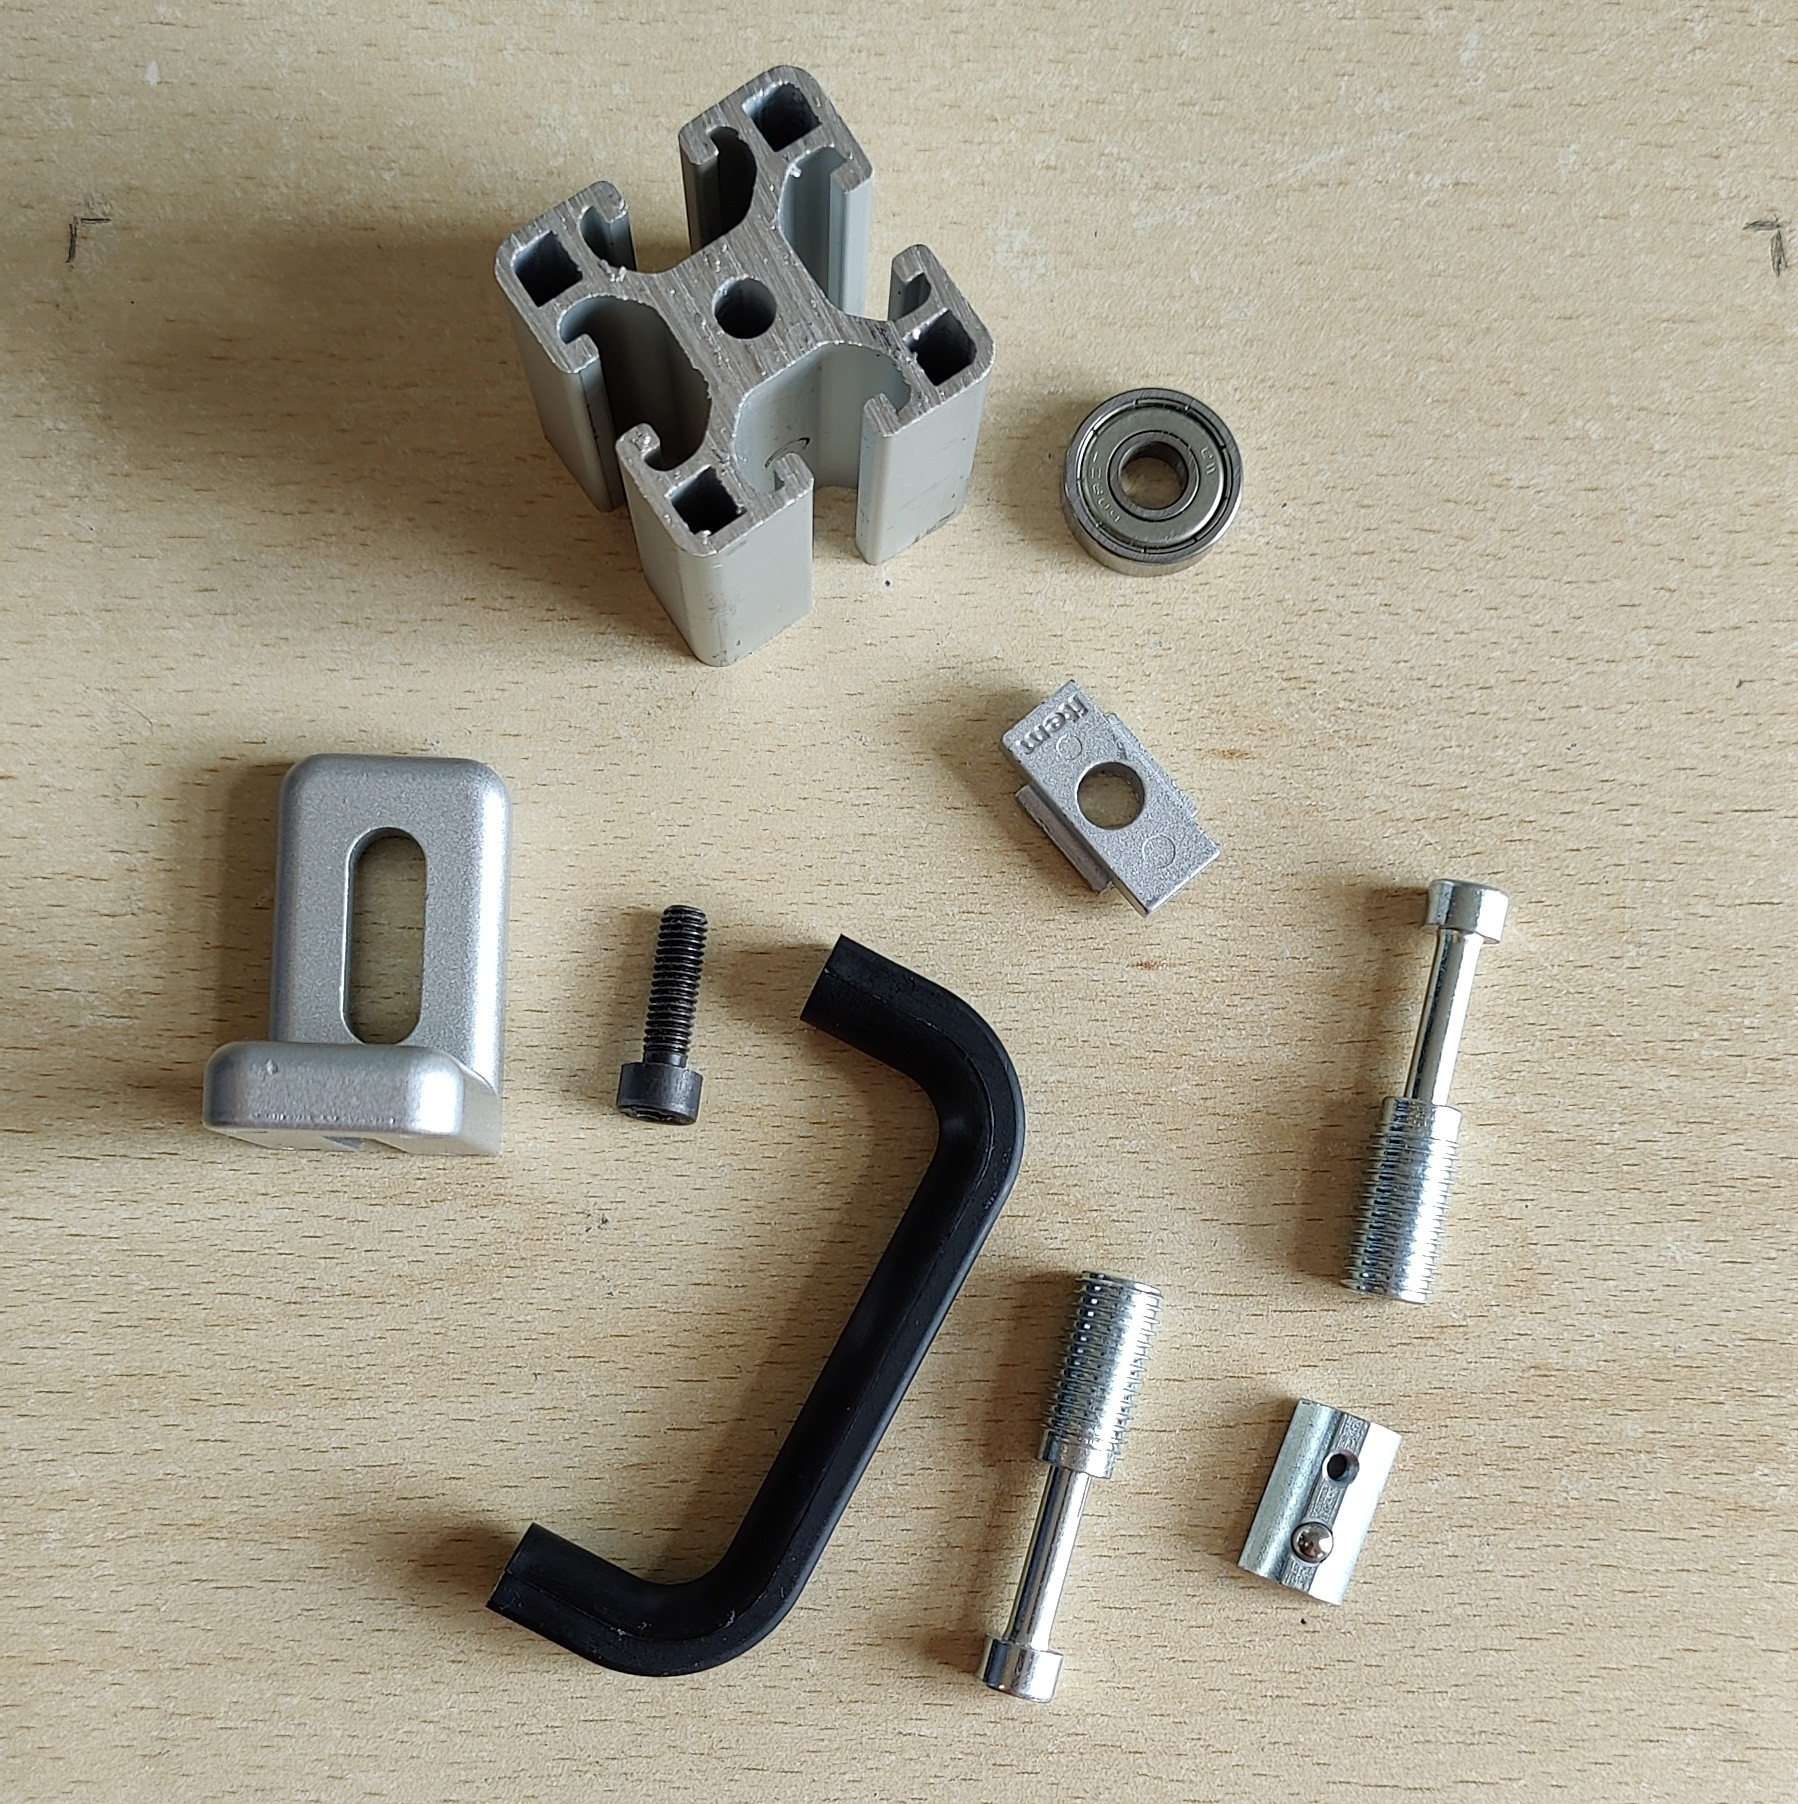Aluminium Extension: (491, 59, 998, 670)
Ball Bearing: (1055, 382, 1246, 579)
Multiwinkel: (198, 747, 514, 1159)
Pull Handle: (481, 930, 1026, 1681)
Shoulder Socket Head Cap Screw: (976, 1267, 1162, 1705), (1337, 872, 1513, 1309)
Socket Head Cap Screw: (614, 905, 710, 1129)
T Nut Square: (994, 676, 1227, 918)
T Spring Nut: (1237, 1396, 1401, 1610)
